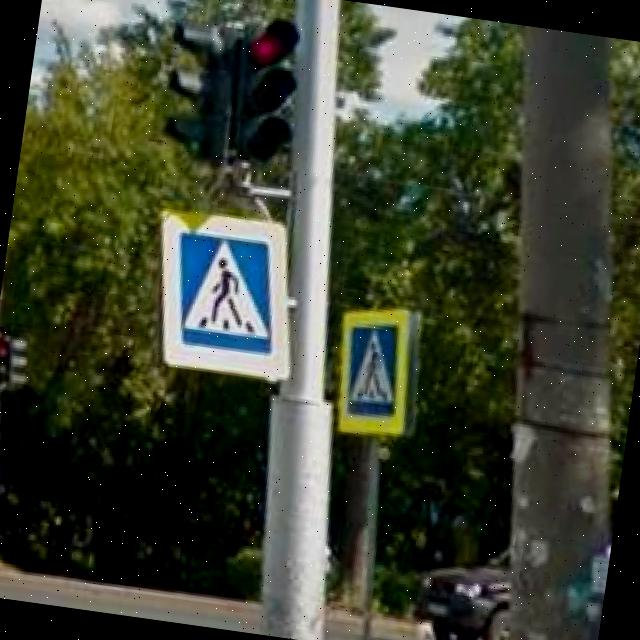Przejscie dla pieszych: (135, 200, 315, 383), (328, 302, 424, 441)
